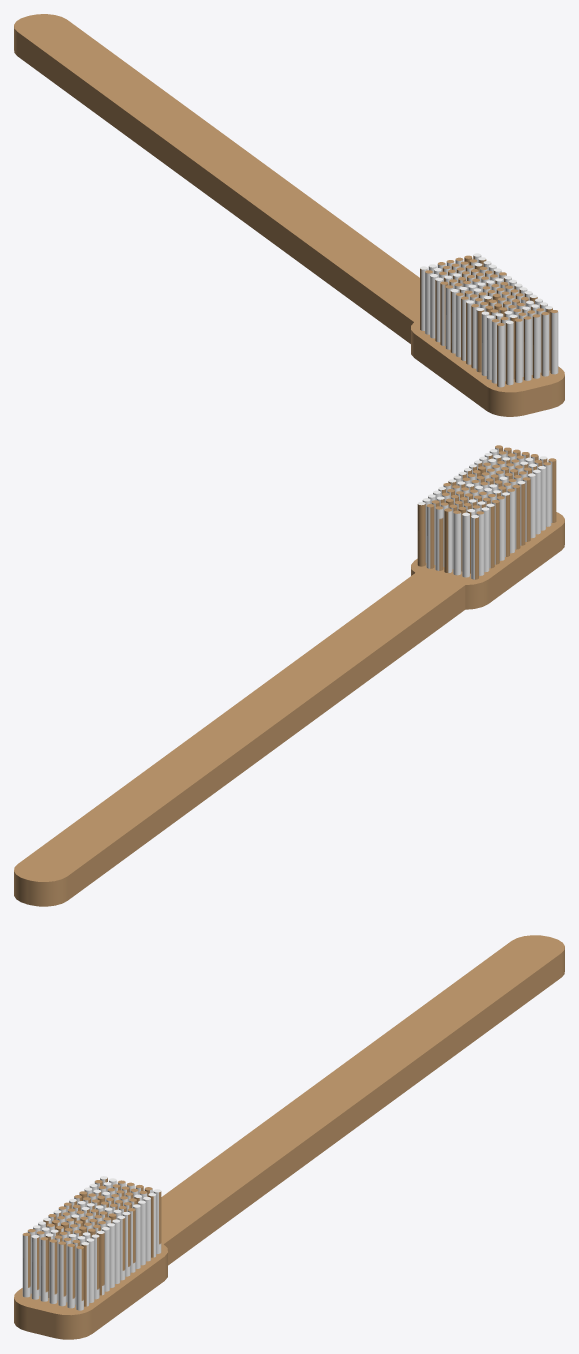
The model's file is project-08.glb.
3 views of the same model, one above another, from view 1: azimuth 30°, elevation 25°; view 2: azimuth 150°, elevation 25°; view 3: azimuth 330°, elevation 25° (orthographic).
Parts seen in each view (by area): view 1: tbrush; view 2: tbrush; view 3: tbrush.
Boxes of the visible parts, bbox=[...] form: tbrush: bbox=[14, 14, 564, 416]; tbrush: bbox=[14, 445, 564, 906]; tbrush: bbox=[14, 935, 564, 1339].
Bounding box in the file's own units: 0.795 × 0.875 × 9.39.
1 material, 1 textured.
